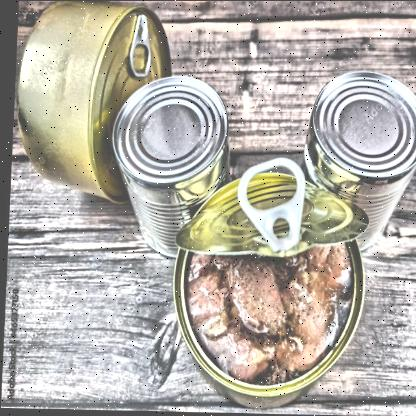Can: (7, 0, 174, 216), (100, 70, 244, 264), (298, 63, 416, 265)
